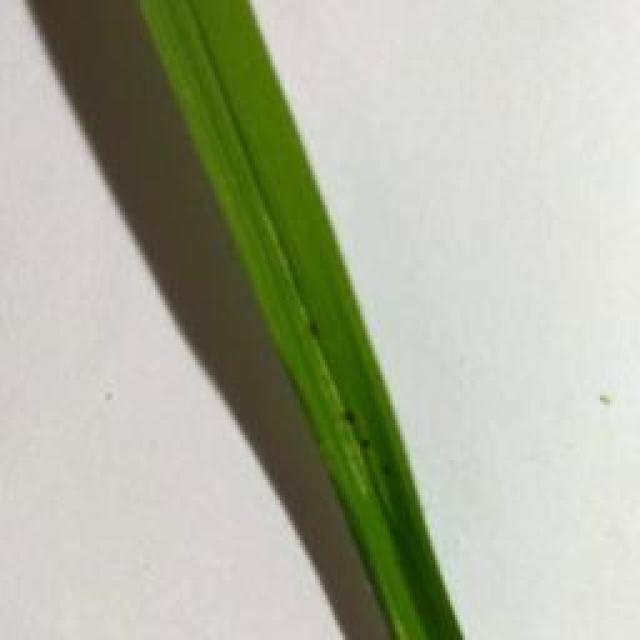Brown_Spot: (296, 303, 326, 341), (335, 390, 360, 426), (382, 461, 403, 489), (354, 431, 368, 457)
